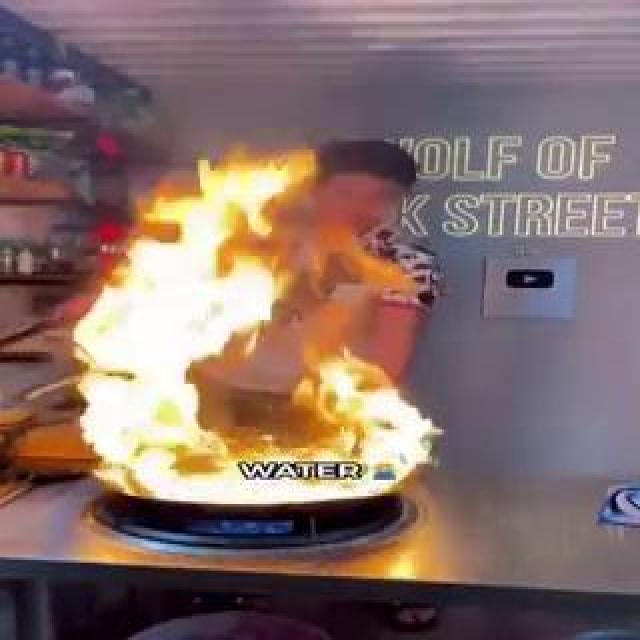Fire: (243, 274, 420, 370)
